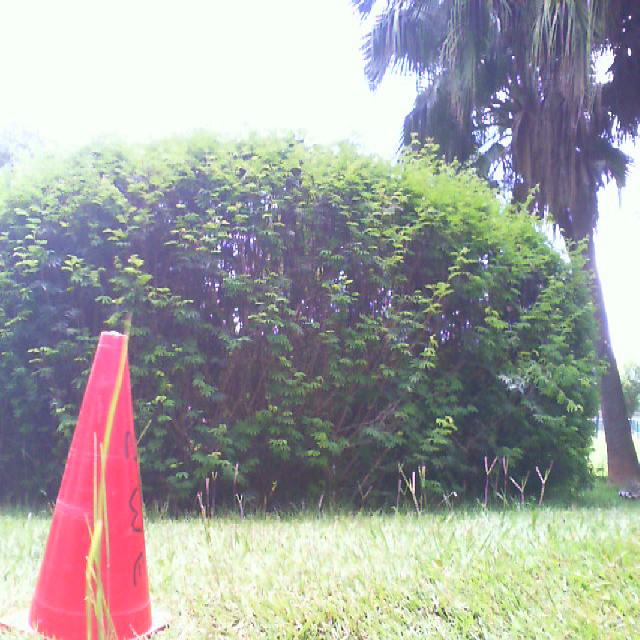cone: (0, 332, 174, 640)
